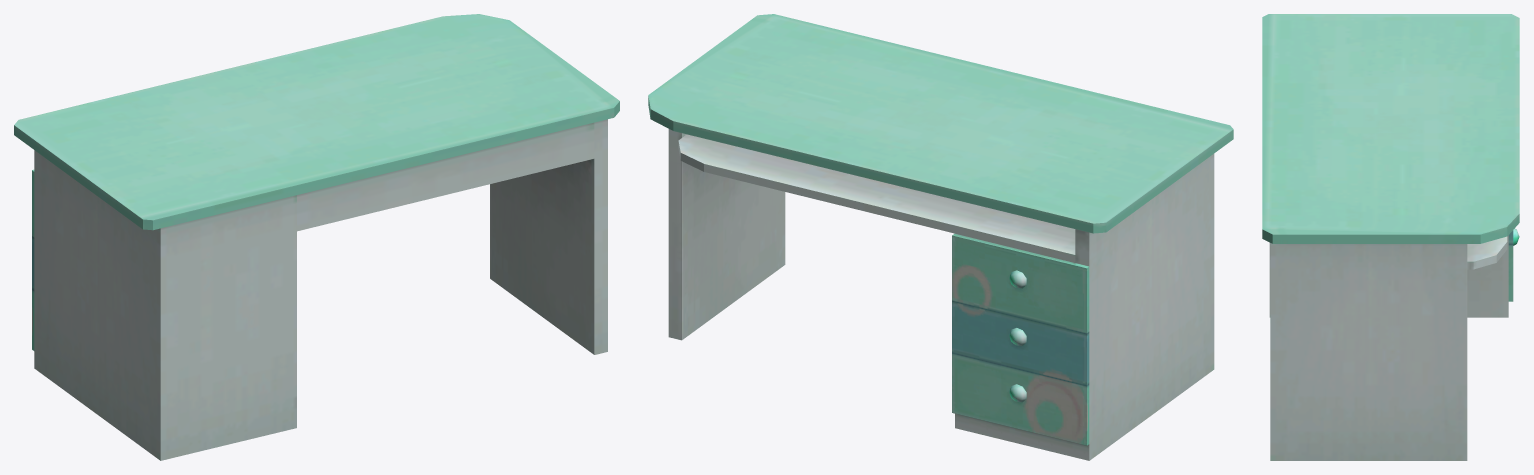
The model's file is furni_0200503_02.FBX.
The picture shows the model from 3 angles, left to right: view 1: azimuth 30°, elevation 25°; view 2: azimuth 150°, elevation 25°; view 3: azimuth 270°, elevation 25°; orthographic projection. The views are drawn at different scales.
Parts seen in each view (by area): view 1: furni_0200503_02; view 2: furni_0200503_02; view 3: furni_0200503_02.
Part boxes in pixels (left/top/right/bottom): furni_0200503_02: left=14, top=14, right=619, bottom=460; furni_0200503_02: left=648, top=14, right=1233, bottom=460; furni_0200503_02: left=1262, top=14, right=1519, bottom=460.
Bounding box in the file's own units: 158 × 77.65 × 77.88.
1 material, 1 textured.
